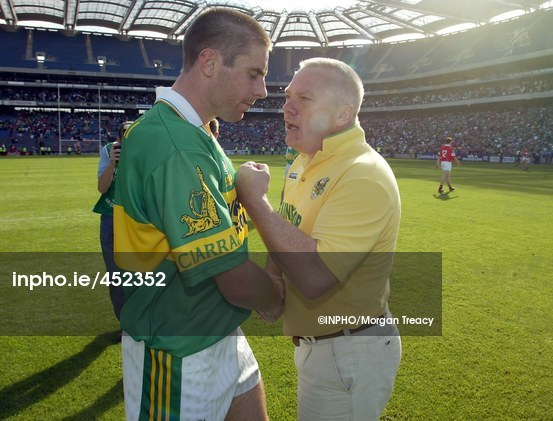player: (123, 3, 266, 416), (258, 45, 409, 409)
